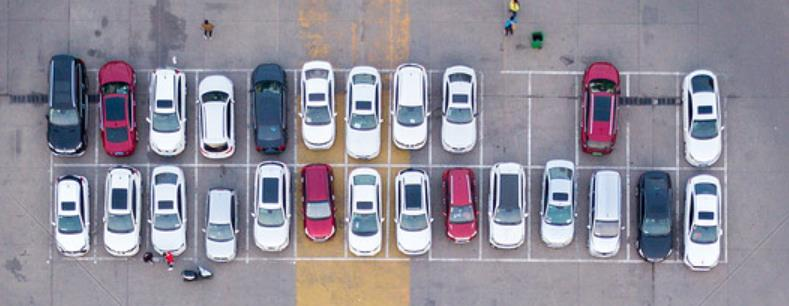car: (38, 54, 92, 156), (675, 68, 726, 168), (93, 62, 144, 159), (680, 173, 725, 275), (143, 67, 192, 159), (573, 59, 618, 158), (341, 64, 385, 163), (250, 160, 296, 254), (101, 166, 146, 261), (435, 63, 481, 155), (148, 164, 192, 259), (248, 63, 292, 158), (195, 73, 240, 163), (485, 161, 530, 251), (294, 56, 337, 150), (634, 168, 676, 264), (538, 159, 582, 250), (46, 174, 92, 258), (389, 59, 430, 153), (583, 169, 626, 258), (392, 166, 434, 256), (297, 161, 340, 244), (441, 165, 483, 246), (202, 185, 241, 264)
